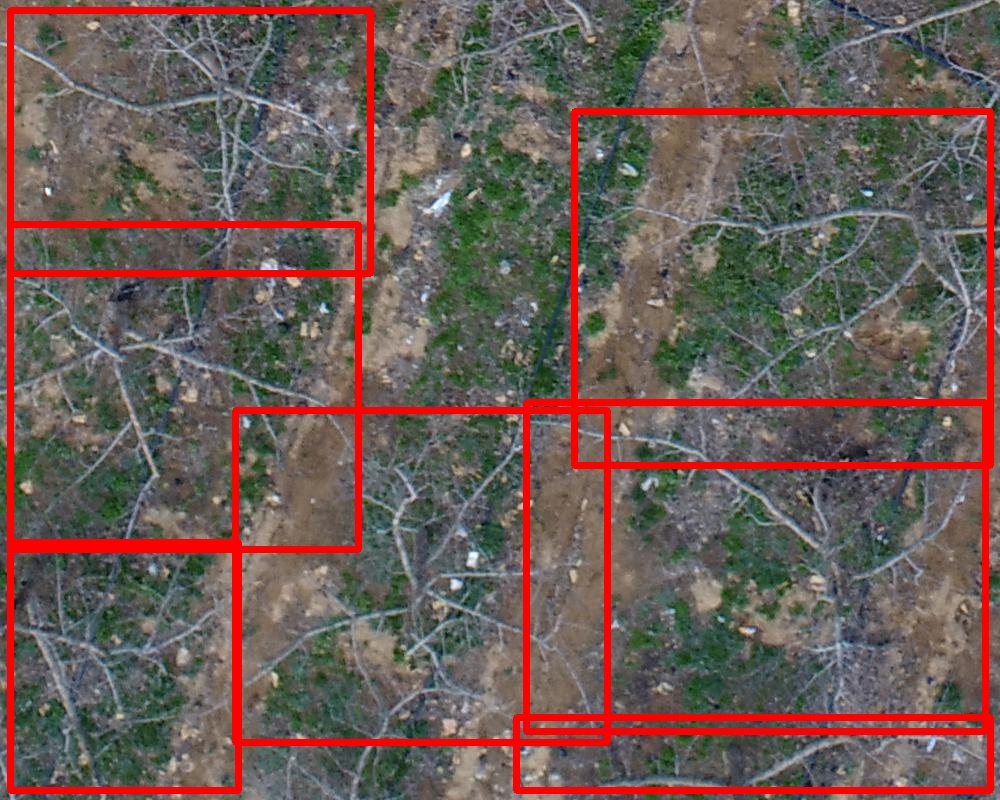apple: (526, 402, 985, 731), (574, 111, 990, 465), (235, 410, 607, 742), (10, 224, 358, 549), (10, 10, 370, 273), (10, 542, 238, 790), (516, 717, 990, 790)
